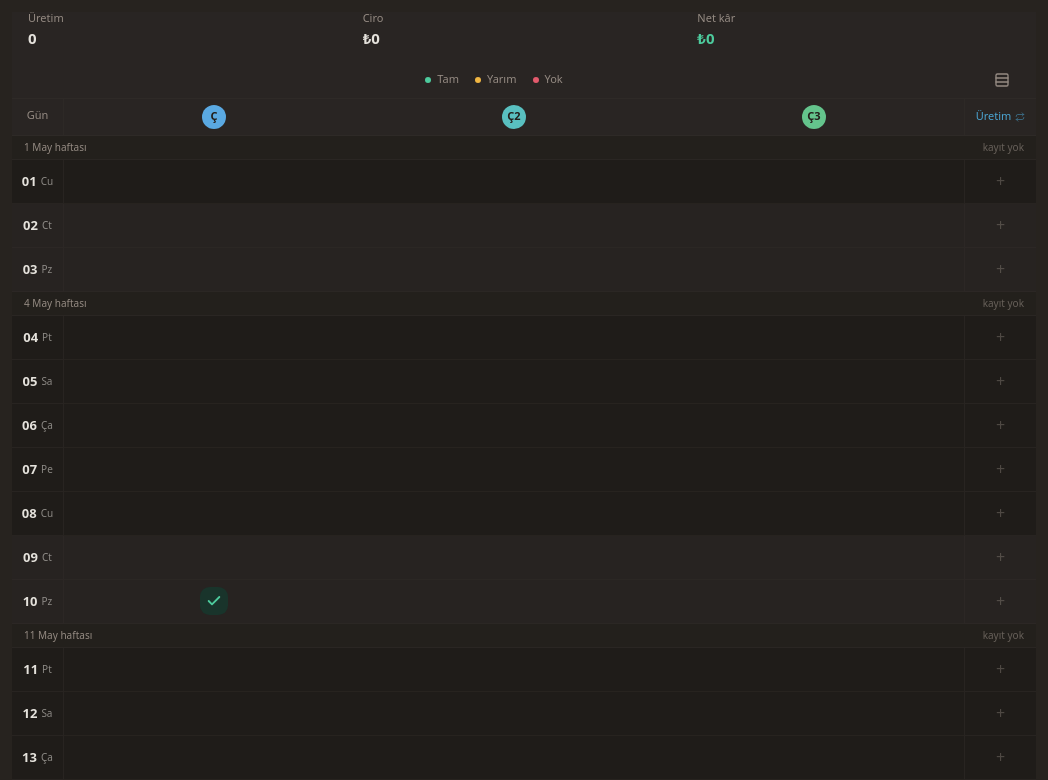
Test case: puantaj hücresi geri bildirimi › temizlemede hücre gri parlar
Click the button named "Çalışan 1, 10 Mayıs Pazar: Tam".
click(214, 602)  # box [64, 580, 364, 624]
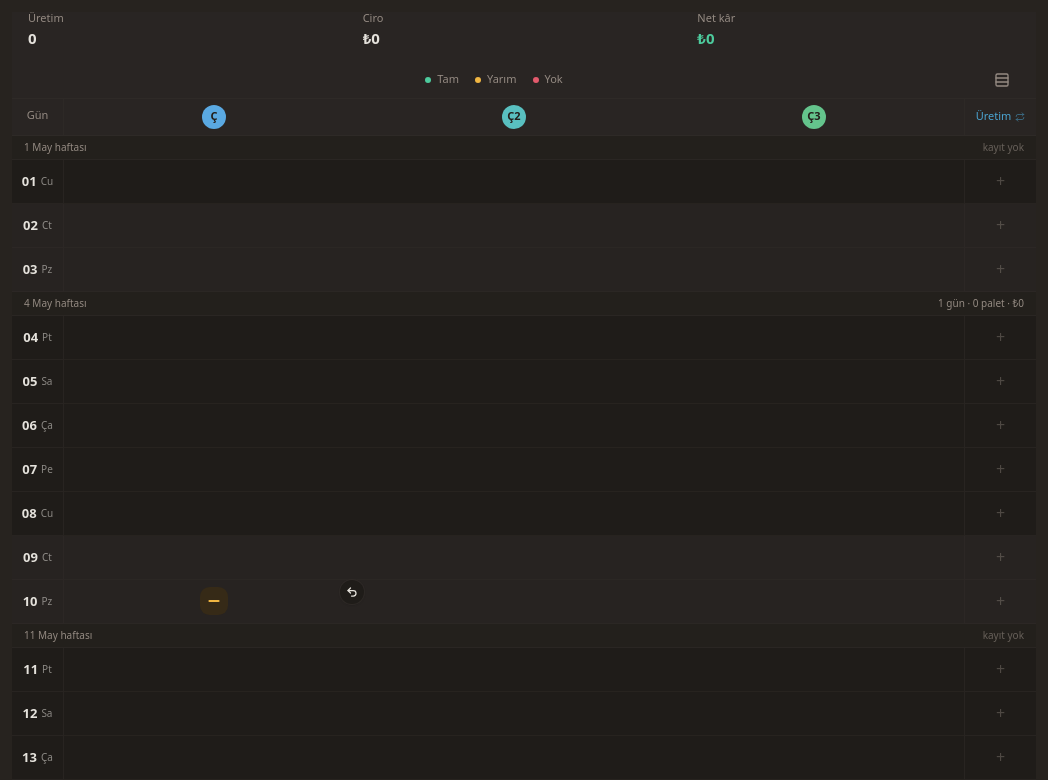
Click the button named "Çalışan 1, 10 Mayıs Pazar: Yarım".
click(214, 602)  # box [64, 580, 364, 624]
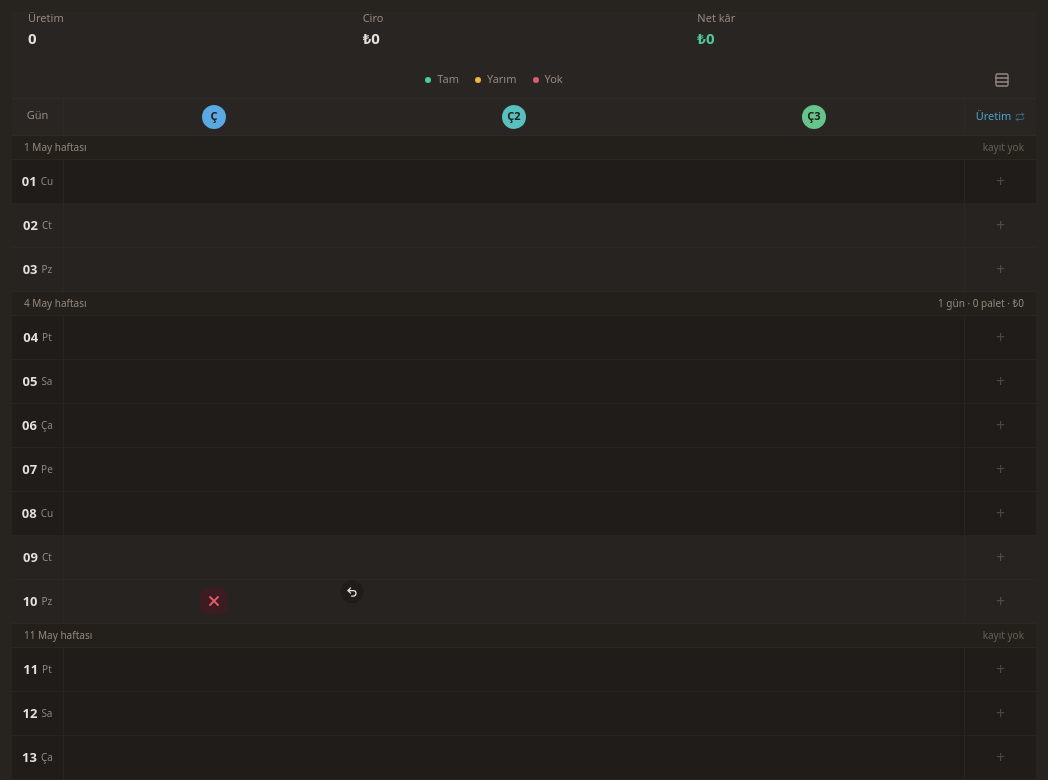
Click the button named "Çalışan 1, 10 Mayıs Pazar: Yok".
click(214, 602)  # box [64, 580, 364, 624]
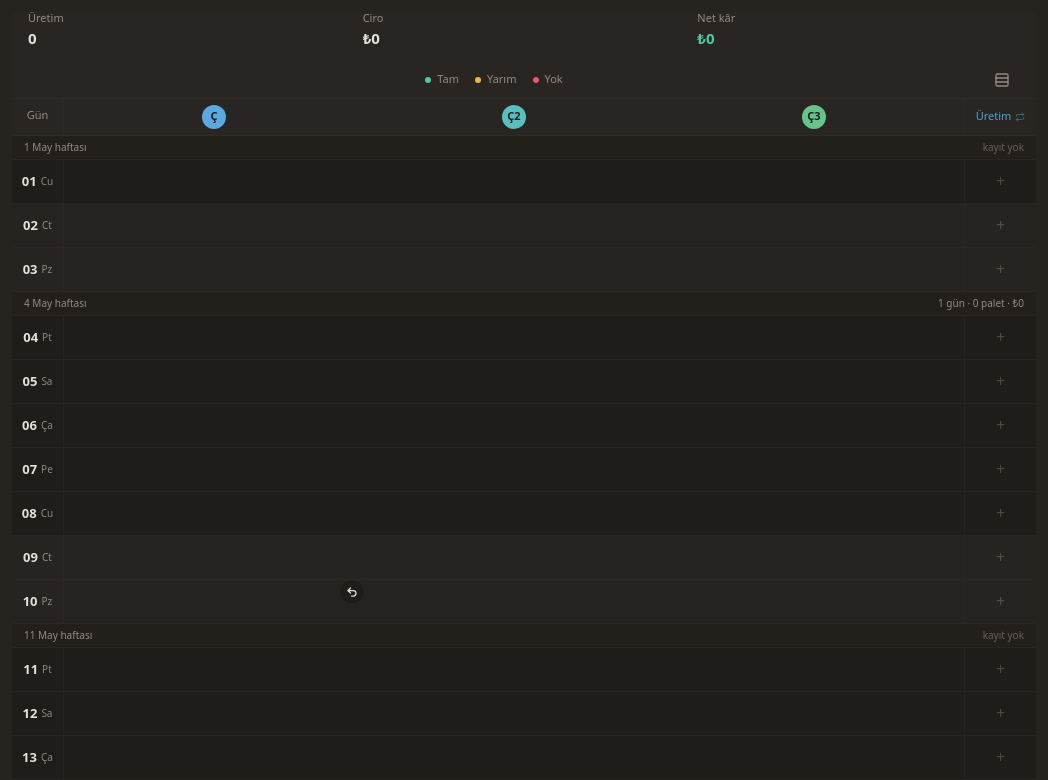
Expected: the button named "Çalışan 1, 10 Mayıs Pazar: kayıt yok" is shown, [64, 580, 364, 624]
